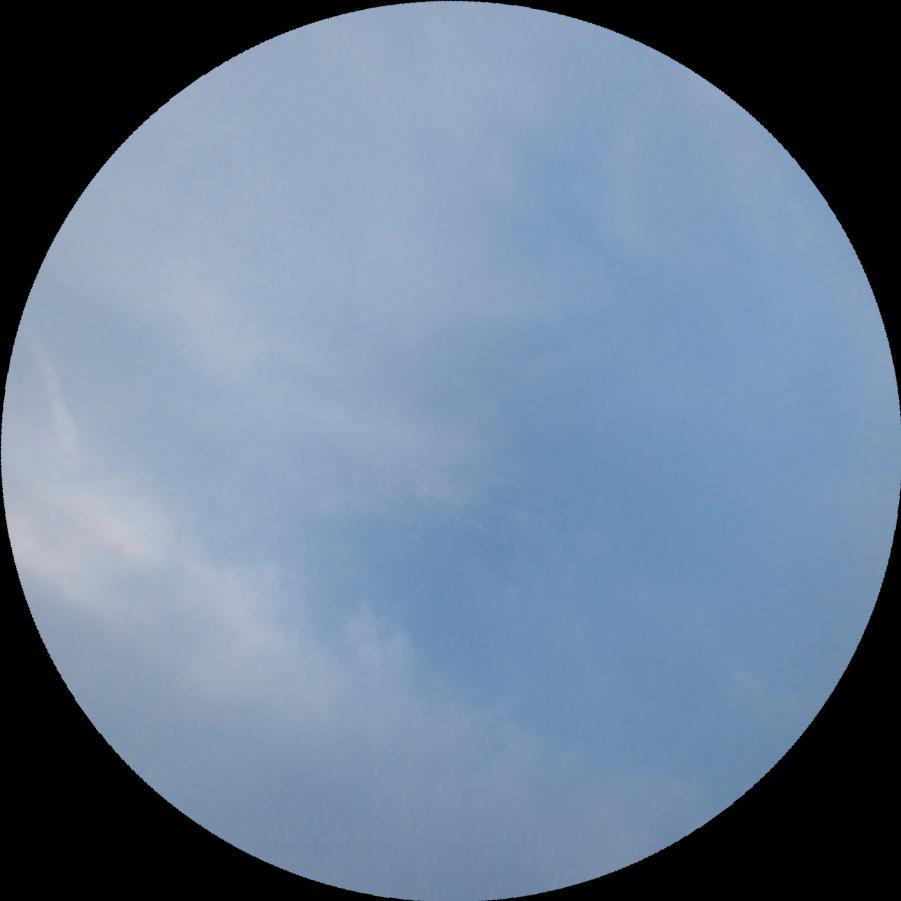contrail veryold: (18, 320, 94, 490)
